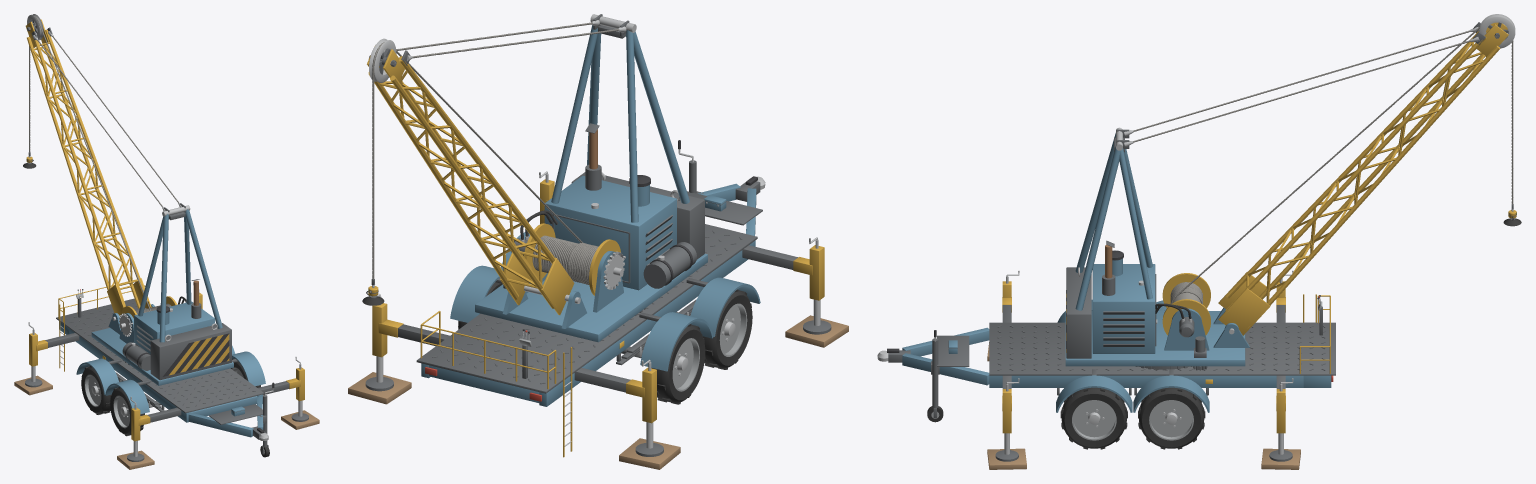
File: RimWinchB.fbx
3 renders of one model, left to right at view 1: azimuth 30°, elevation 25°; view 2: azimuth 150°, elevation 25°; view 3: azimuth 270°, elevation 25°, orthographic. The views are drawn at different scales.
Visible parts, largest first — view 1: B_Chassis, B_Turret, B_Jib, B_Pendants, B_Rope, B_Drum; view 2: B_Chassis, B_Turret, B_Jib, B_Drum, B_Rope, B_Pendants, B_TipSheave; view 3: B_Chassis, B_Turret, B_Jib, B_Drum, B_Pendants, B_Rope.
Part boxes in pixels (<box>): B_Chassis: <box>14,279,319,469</box>; B_Turret: <box>91,203,233,385</box>; B_Jib: <box>25,19,151,315</box>; B_Pendants: <box>33,31,181,210</box>; B_Rope: <box>29,16,150,311</box>; B_Drum: <box>119,296,177,336</box>; B_Chassis: <box>348,140,848,469</box>; B_Turret: <box>475,14,707,342</box>; B_Jib: <box>367,46,574,315</box>; B_Drum: <box>524,223,624,295</box>; B_Rope: <box>372,42,582,279</box>; B_Pendants: <box>383,20,626,61</box>; B_TipSheave: <box>369,38,396,82</box>; B_Chassis: <box>877,270,1335,469</box>; B_Turret: <box>1065,127,1249,370</box>; B_Jib: <box>1218,22,1508,335</box>; B_Drum: <box>1162,273,1210,335</box>; B_Pendants: <box>1124,27,1479,146</box>; B_Rope: <box>1175,26,1513,296</box>.
Size of the model in its own units: 9.84 by 21.52 by 14.52.
